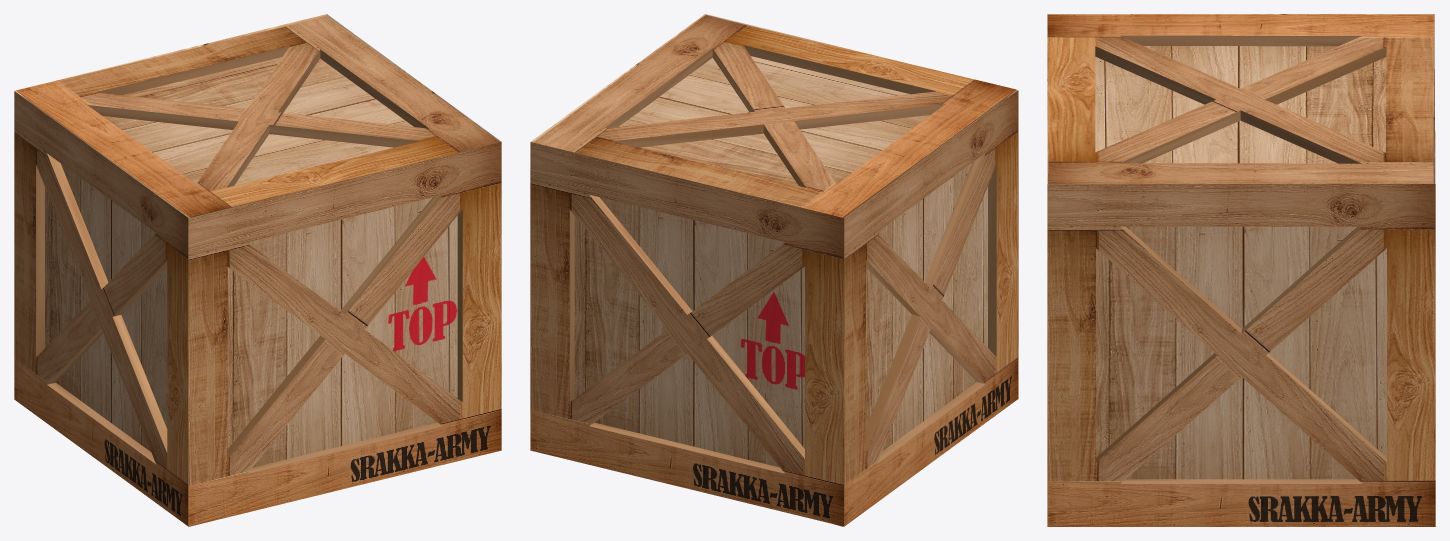
File: caisseBois01Closed.fbx
3 renders of one model, left to right at view 1: azimuth 30°, elevation 25°; view 2: azimuth 150°, elevation 25°; view 3: azimuth 270°, elevation 25°, orthographic. The views are drawn at different scales.
Parts seen in each view (by area): view 1: BoxP2, BoxP4, BoxTop, BoxP3; view 2: BoxP3, BoxP4, BoxTop, BoxP2; view 3: BoxP1, BoxTop, BoxP2.
Part boxes in pixels (x1,y1,x2,y2): BoxP2: (188, 142, 501, 526); BoxP4: (14, 91, 188, 525); BoxTop: (16, 16, 499, 217); BoxP3: (14, 14, 326, 103); BoxP3: (530, 142, 843, 526); BoxP4: (844, 91, 1017, 526); BoxTop: (533, 15, 1016, 217); BoxP2: (705, 14, 1018, 398); BoxP1: (1047, 184, 1435, 526); BoxTop: (1047, 14, 1434, 183); BoxP2: (1047, 14, 1048, 526).
Bounding box in the file's own units: 93.29 × 88.13 × 90.06.
